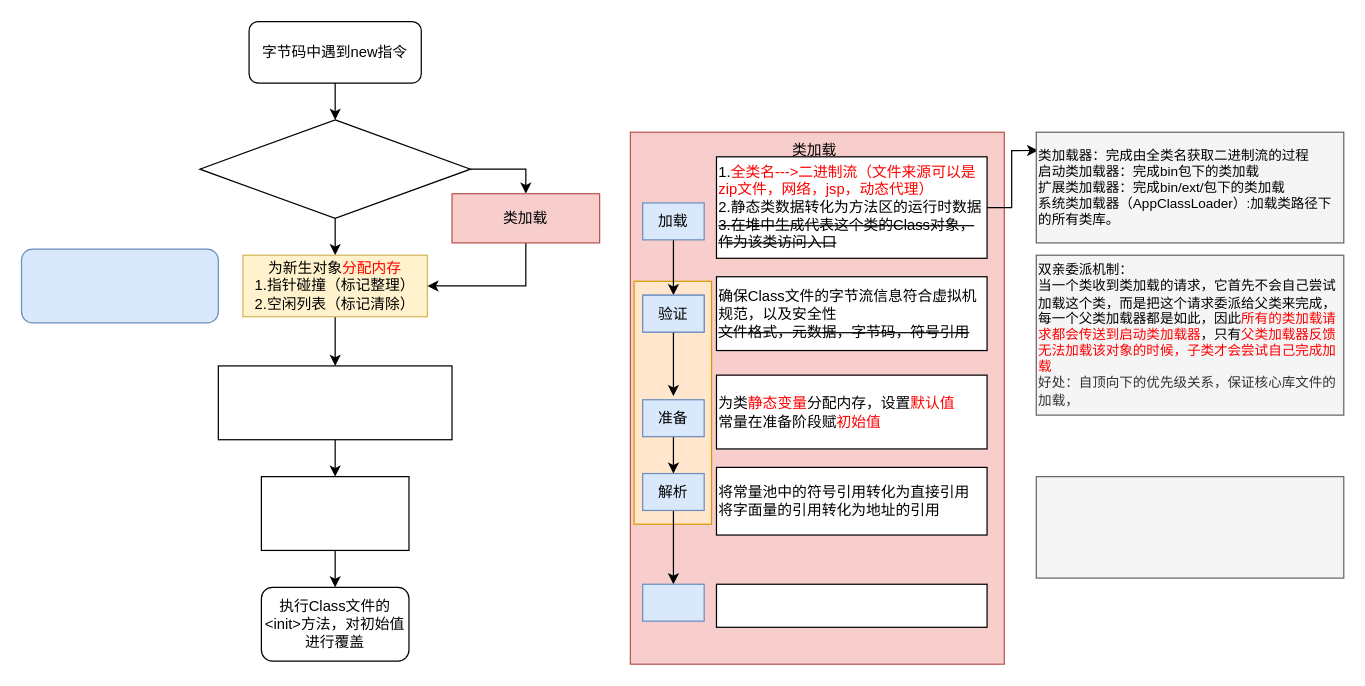
This 1365x686 diagram has some shape labels left out. Each missing label, with the centre of its shape:
保证对象即使不赋初始值就可以使用，虚拟机会为对象初始化零值。: pixel 334 402
初始化: pixel 672 602
字符串常量池中能否对应到符号引用， 对应的类知否被加载: pixel 334 168
执行 <clinit>函数将静态变量赋初始值: pixel 851 605
牵扯到并发线程安全问题 1.指针更新CAS失败重试 2.Use TLAB: pixel 119 285
符号引用: 使用时 无歧义 的定位目标即可， 与内存无关 。 直接引用: 直接指向目标地址的指针，偏移量或者定位到目标的句柄: pixel 1189 526
设置对象头：元数据信息，hashCode，GC信息，锁信息: pixel 334 512
